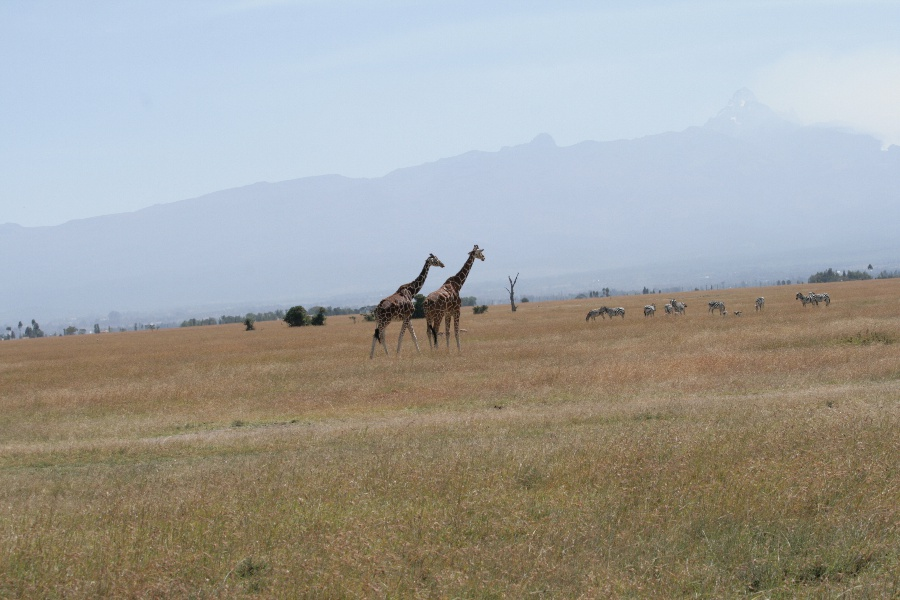giraffe: (364, 248, 450, 359), (419, 238, 491, 351)
